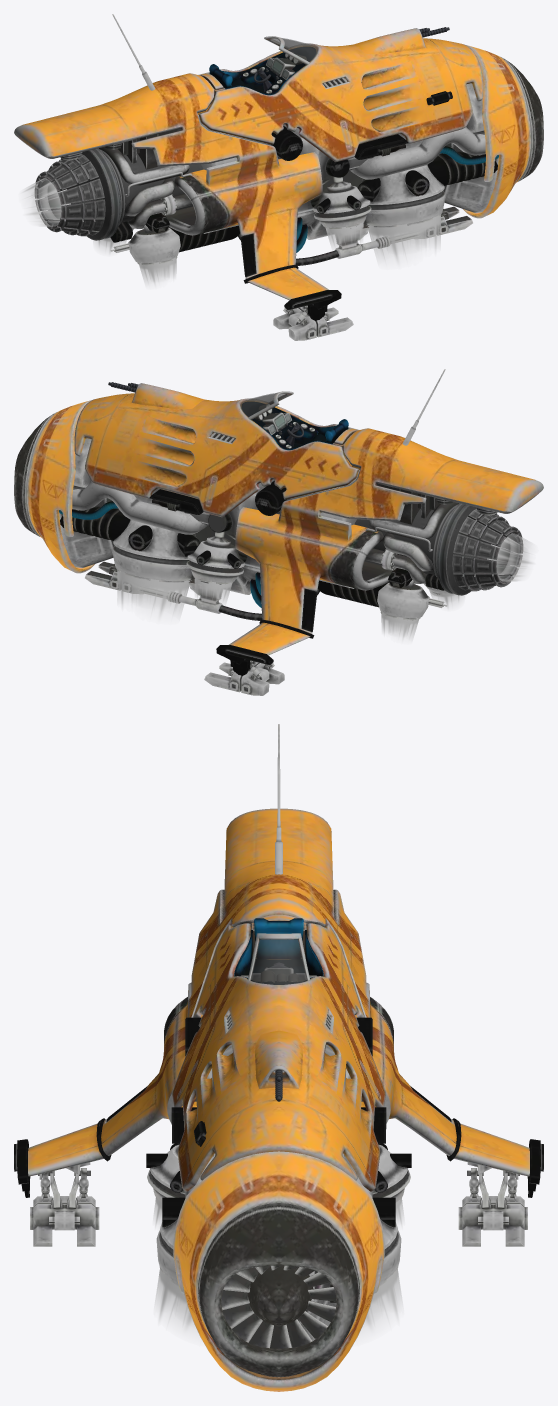
File: cyberpunk_speeder-transformed-COMOZpym.glb
The picture shows the model from 3 angles, top to bottom: view 1: azimuth 30°, elevation 25°; view 2: azimuth 150°, elevation 25°; view 3: azimuth 270°, elevation 25°; orthographic projection. The views are drawn at different scales.
Parts seen in each view (by area): view 1: defaultMaterial (×4); view 2: defaultMaterial (×4); view 3: defaultMaterial (×4).
Boxes of the visible parts, x1,y1,x2,y2 form: defaultMaterial (×4): (14,14,543,340); defaultMaterial (×4): (14,369,543,695); defaultMaterial (×4): (14,724,543,1391).
Bounding box in the file's own units: 2.01 × 1.15 × 1.27.
Materials: 4 (4 with a texture image).
